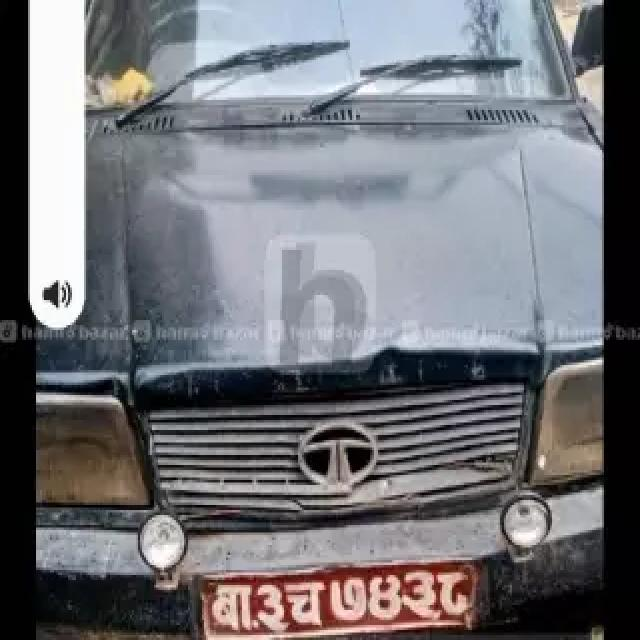License-plate: (198, 557, 480, 640)
